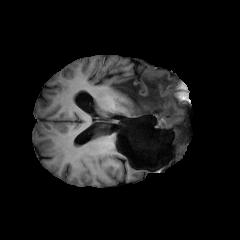glioma: (107, 66, 186, 149)
